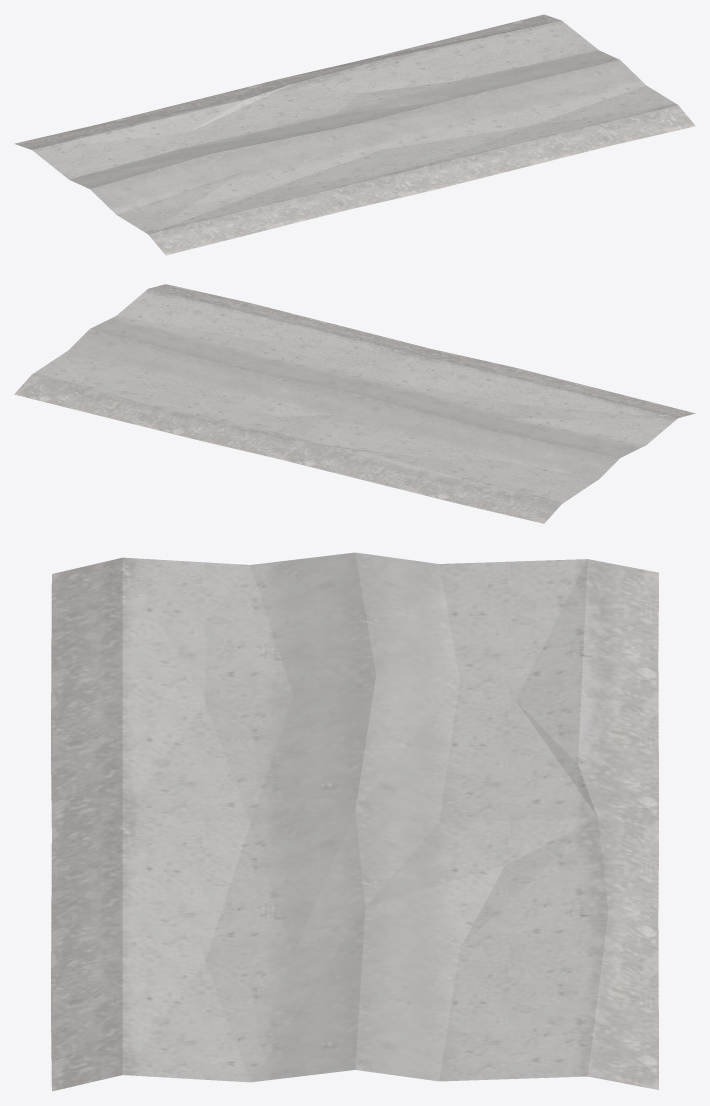
File: gnd_dirt.glb
The picture shows the model from 3 angles, top to bottom: view 1: azimuth 30°, elevation 25°; view 2: azimuth 150°, elevation 25°; view 3: azimuth 270°, elevation 25°; orthographic projection. The views are drawn at different scales.
Visible parts, largest first — view 1: Plane.005__0; view 2: Plane.005__0; view 3: Plane.005__0.
Part boxes in pixels (left/top/right/bottom): Plane.005__0: left=14, top=14, right=695, bottom=255; Plane.005__0: left=14, top=284, right=695, bottom=523; Plane.005__0: left=51, top=552, right=658, bottom=1091.
Size of the model in its own units: 7.7 by 0.165 by 3.83.
1 material, 1 textured.
